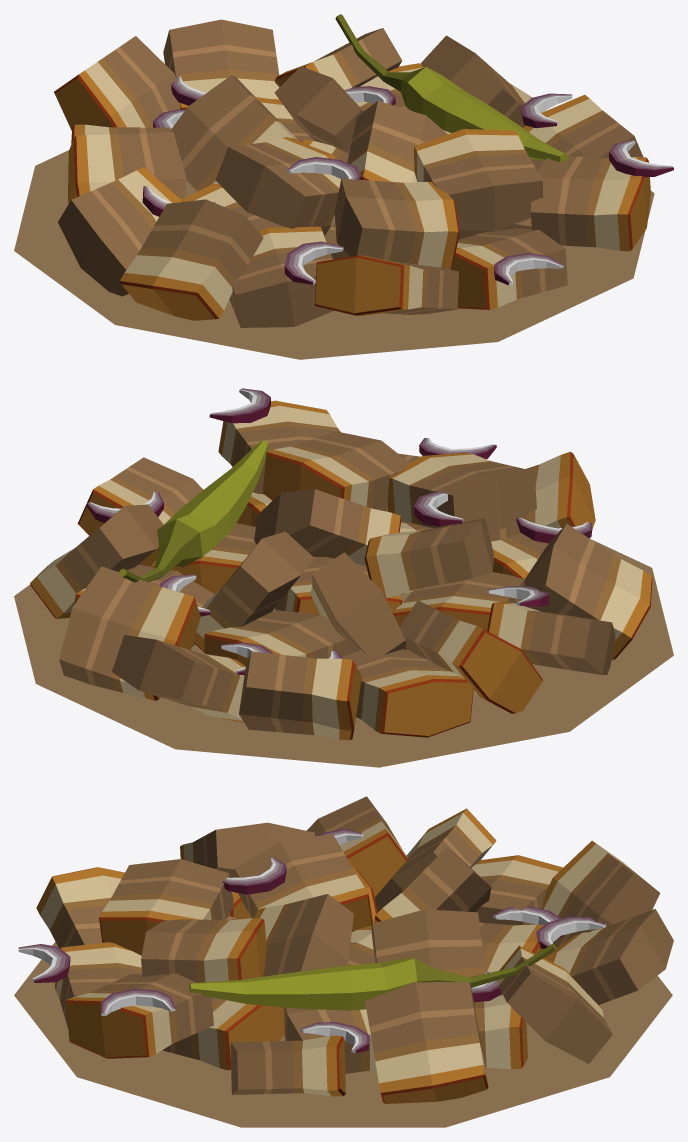
File: Adobo sa gata.fbx
The picture shows the model from 3 angles, top to bottom: view 1: azimuth 30°, elevation 25°; view 2: azimuth 150°, elevation 25°; view 3: azimuth 270°, elevation 25°; orthographic projection. The views are drawn at different scales.
Visible parts, largest first — view 1: Adobo sa Gata; view 2: Adobo sa Gata; view 3: Adobo sa Gata.
Part boxes in pixels (<box>): Adobo sa Gata: <box>14,14,673,359</box>; Adobo sa Gata: <box>14,388,673,767</box>; Adobo sa Gata: <box>14,796,673,1127</box>.
Bounding box in the file's own units: 90.14 × 21.52 × 94.94.
